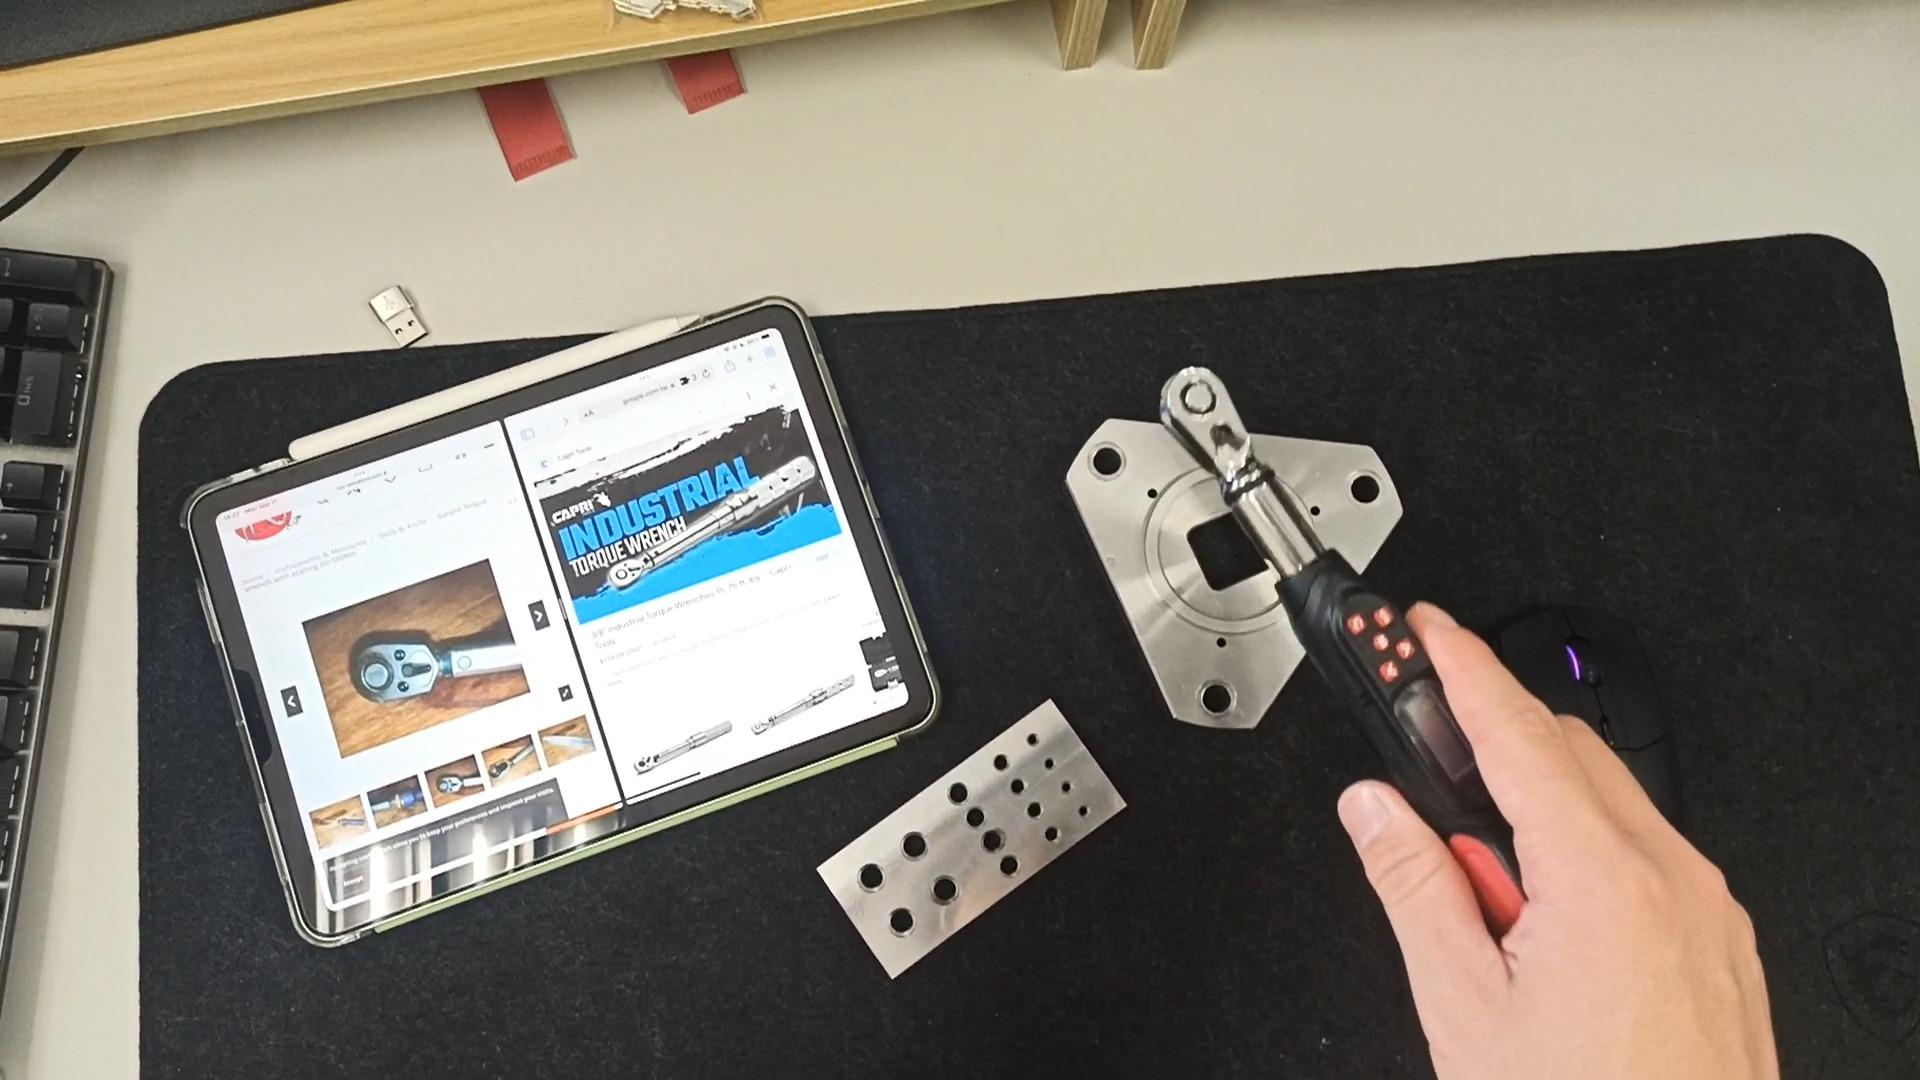Tool: (1160, 359, 1255, 488), (351, 637, 442, 707), (604, 558, 653, 588)
hole: (1176, 680, 1249, 729), (1083, 435, 1138, 489), (1338, 464, 1391, 521), (847, 861, 903, 897), (923, 874, 978, 909), (885, 909, 942, 942), (897, 839, 947, 869), (982, 832, 1027, 860), (939, 785, 984, 811), (956, 808, 1000, 833), (1000, 857, 1042, 881), (989, 753, 1027, 775), (1040, 831, 1076, 851), (1021, 733, 1056, 753), (1006, 783, 1040, 802), (1077, 806, 1109, 824), (1027, 804, 1059, 823), (1042, 757, 1073, 775), (1054, 783, 1085, 800)
